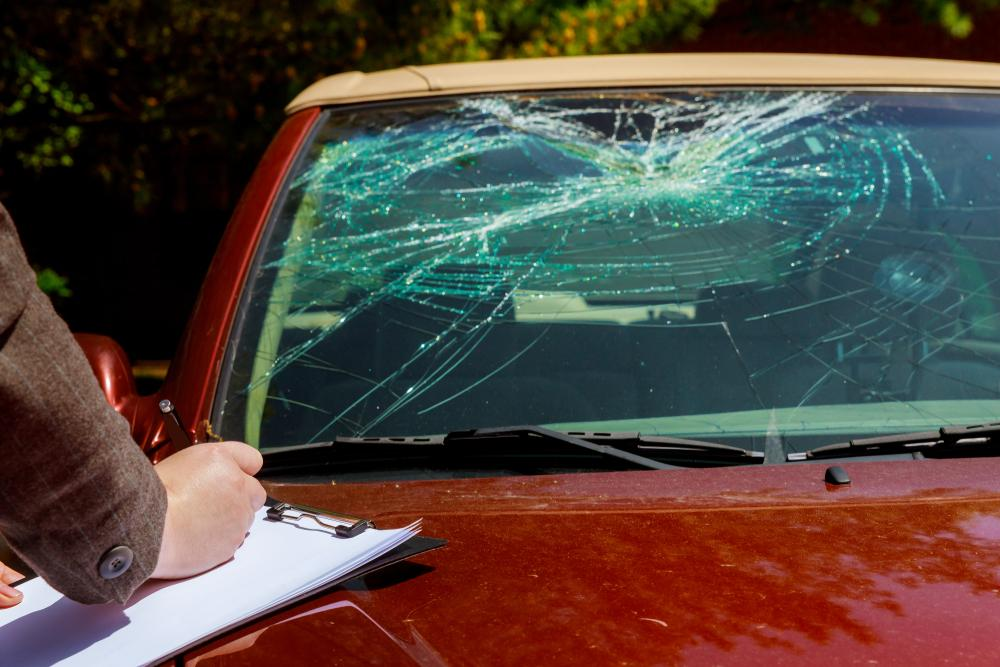glass shatter: (222, 84, 1000, 454)
